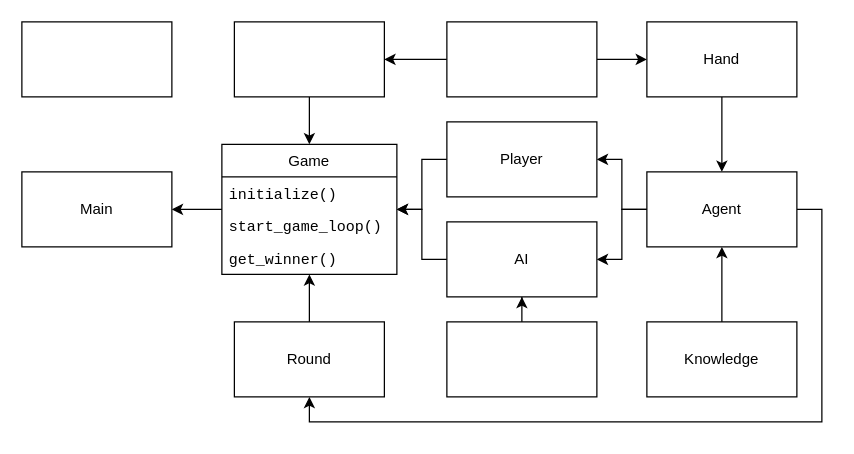
The diagram is 854 pixels wide and 454 high, and some of its shapes have lost their labels. Each missing label, with the box of its shape:
Card: (446, 21, 597, 97)
Deck: (233, 21, 384, 97)
Strategies: (446, 321, 597, 397)
Utils: (21, 21, 172, 97)
